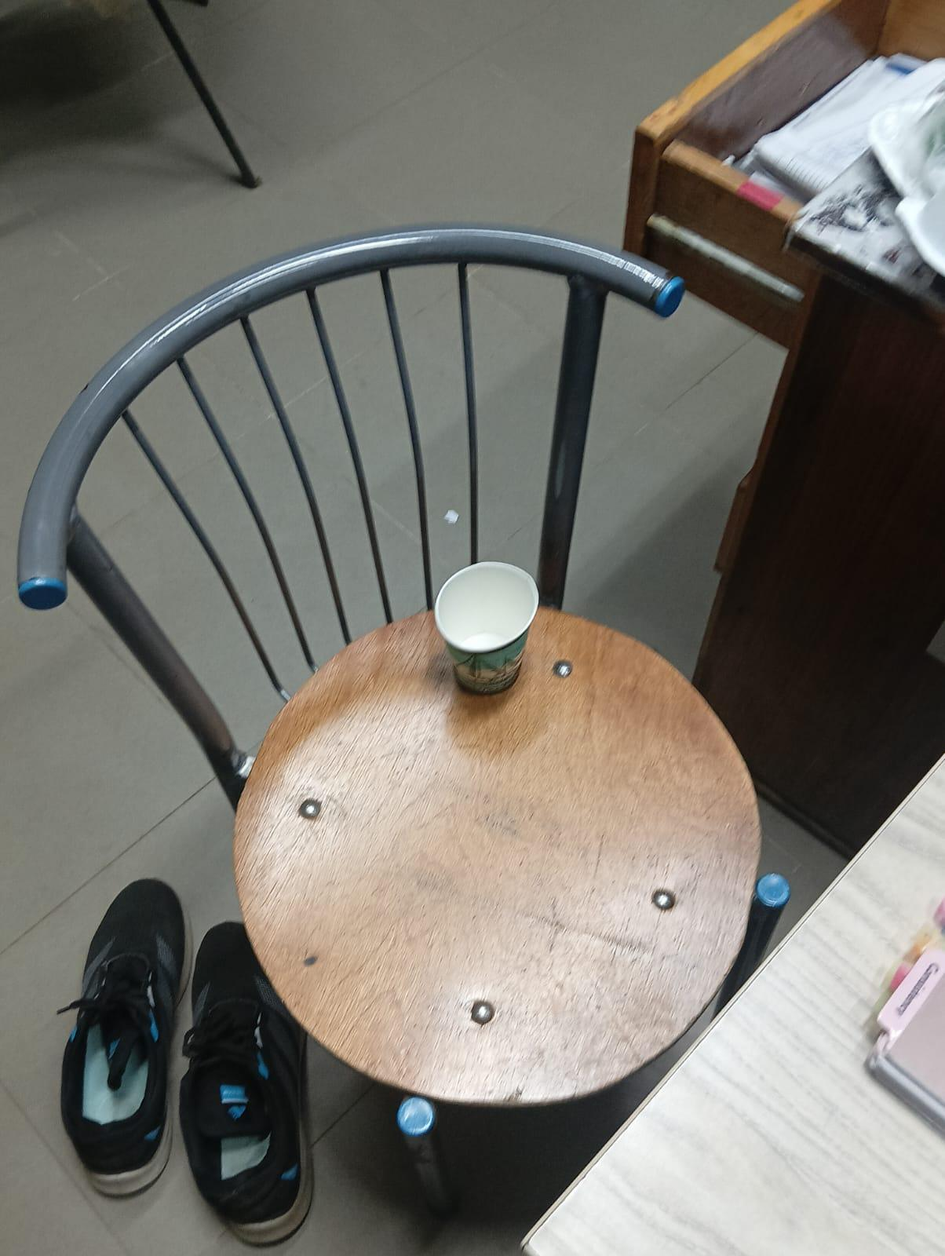cup: (435, 561, 538, 692)
